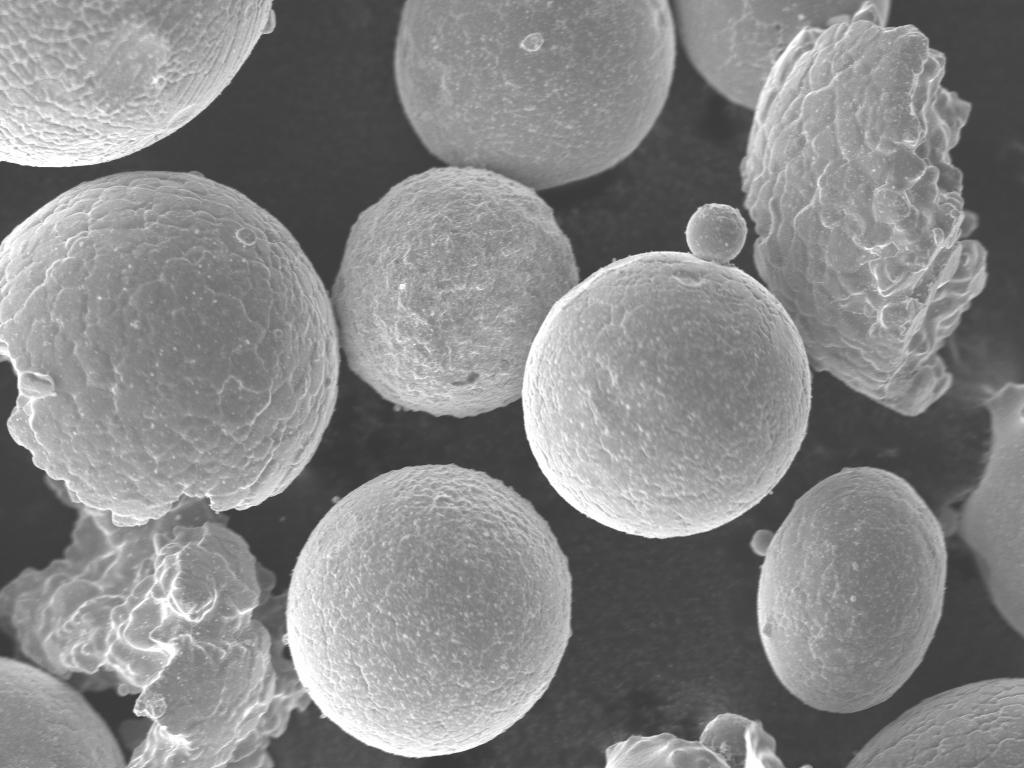Powder: (0, 172, 336, 525), (742, 6, 986, 416), (522, 204, 810, 538), (288, 464, 570, 756), (0, 500, 308, 766), (332, 166, 578, 417), (394, 0, 676, 190), (752, 468, 946, 712), (0, 0, 274, 166), (675, 0, 864, 107), (848, 678, 1024, 768), (0, 658, 126, 766), (606, 714, 784, 768)
